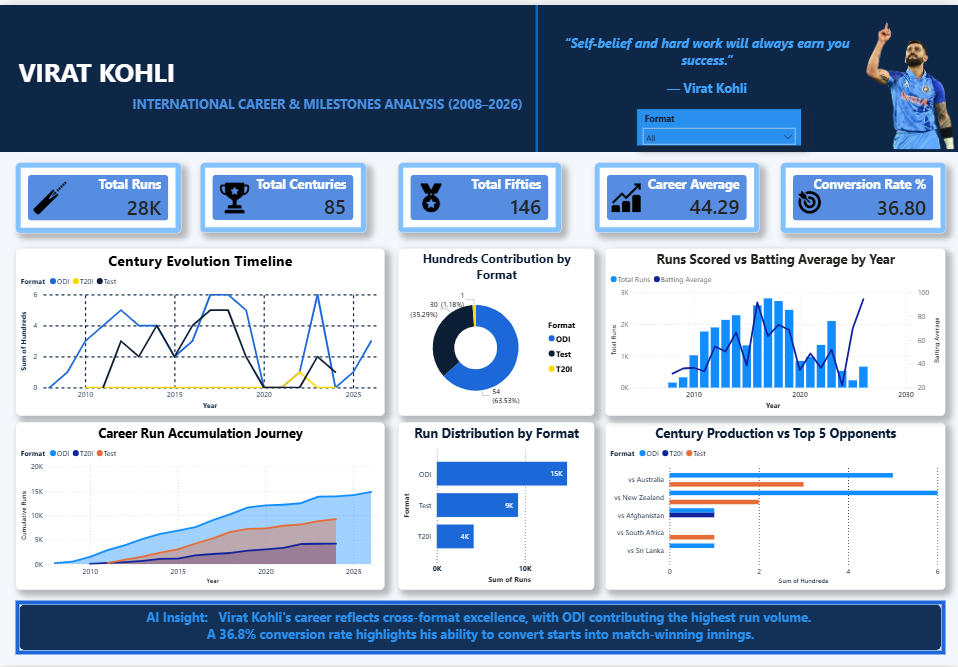

This screenshot's page, from the dashboard's own definition file:
{"tool":"powerbi","page":{"name":"Page 1","canvas":[1600,1100],"ordinal":0},"visuals":[{"type":"cardVisual","fields":{"Data":["cleaned_virat_international_yearwise_2026.Total Runs"]},"box":[28.3,262.2,276.4,118.1],"z":0},{"type":"cardVisual","fields":{"Data":["cleaned_virat_international_yearwise_2026.Career Average"]},"box":[992.5,262.5,275,117.5],"z":1000},{"type":"cardVisual","fields":{"Data":["cleaned_virat_international_yearwise_2026.Conversion Rate %"]},"box":[1301.6,262.2,276,118.1],"z":2000},{"type":"cardVisual","fields":{"Data":["cleaned_virat_international_yearwise_2026.Total Centuries"]},"box":[335,262.5,277.5,117.5],"z":3000},{"type":"cardVisual","fields":{"Data":["cleaned_virat_international_yearwise_2026.Total Fifties"]},"box":[665,262.5,272.5,117.5],"z":4000},{"type":"shape","box":[0,0,1600,245],"z":5000},{"type":"textbox","box":[27.5,77.5,275,150],"z":6000},{"type":"textbox","box":[197.5,145,700,60],"z":7000},{"type":"shape","box":[800,0,192.5,245],"z":8000},{"type":"image","box":[1437.5,17.5,162.5,227.5],"z":9000},{"type":"textbox","box":[922.5,42.5,515,160],"z":10000},{"type":"lineChart","title":"Century Evolution Timeline","fields":{"Category":["cleaned_virat_international_yearwise_2026.Year"],"Y":["Sum(cleaned_virat_international_yearwise_2026.Hundreds)"],"Series":["cleaned_virat_international_yearwise_2026.Format"]},"box":[27.5,405,615,280],"z":11000},{"type":"donutChart","title":"Hundreds Contribution by Format","fields":{"Category":["cleaned_virat_international_yearwise_2026.Format"],"Y":["cleaned_virat_international_yearwise_2026.Total Centuries"]},"box":[665,405,327.5,280],"z":12000},{"type":"clusteredBarChart","title":"Century Production vs Top 5 Opponents","fields":{"Category":["cleaned_virat_milestones_2026.Opponent_or_Event"],"Y":["Sum(cleaned_virat_international_yearwise_2026.Hundreds)"],"Series":["cleaned_virat_international_yearwise_2026.Format"]},"box":[1010,695,567.5,280],"z":13000},{"type":"areaChart","title":"Career Run Accumulation Journey","fields":{"Category":["cleaned_virat_international_yearwise_2026.Year"],"Series":["cleaned_virat_international_yearwise_2026.Format"],"Y":["cleaned_virat_international_yearwise_2026.Cumulative Runs"]},"box":[28,695,615,280],"z":14000},{"type":"lineStackedColumnComboChart","title":"Runs Scored vs Batting Average by Year","fields":{"Category":["cleaned_virat_international_yearwise_2026.Year"],"Y":["Sum(cleaned_virat_international_yearwise_2026.Runs)"],"Y2":["cleaned_virat_international_yearwise_2026.Batting Average"]},"box":[1010,405,567.5,280],"z":15000},{"type":"slicer","fields":{"Values":["cleaned_virat_international_yearwise_2026.Format"]},"box":[1062.5,172.5,275,62.5],"z":16000},{"type":"image","box":[57.5,290,55,62.5],"z":17000},{"type":"image","box":[365,290,55,62.5],"z":18000},{"type":"image","box":[692.5,290,55,62.5],"z":19000},{"type":"image","box":[1017.5,290,55,62.5],"z":20000},{"type":"image","box":[1332.5,297.5,37.5,62.5],"z":21000},{"type":"clusteredBarChart","title":"Run Distribution by Format","fields":{"Category":["cleaned_virat_international_yearwise_2026.Format"],"Y":["Sum(cleaned_virat_international_yearwise_2026.Runs)"]},"box":[665,695,327.5,280],"z":22000},{"type":"shape","box":[27.5,992.5,1550,90],"z":23000},{"type":"textbox","box":[27,999,1550,80],"z":24000}]}

Visuals, with their boxes in screenshot pixels (x1, y1, x2, y2), scaled from the page's 1600x1100 canvas onto the 958x667 screenshot:
cardVisual - cleaned_virat_international_yearwise_2026.Total Runs: {"left": 17, "top": 159, "right": 182, "bottom": 231}
cardVisual - cleaned_virat_international_yearwise_2026.Career Average: {"left": 594, "top": 159, "right": 759, "bottom": 230}
cardVisual - cleaned_virat_international_yearwise_2026.Conversion Rate %: {"left": 779, "top": 159, "right": 945, "bottom": 231}
cardVisual - cleaned_virat_international_yearwise_2026.Total Centuries: {"left": 201, "top": 159, "right": 367, "bottom": 230}
cardVisual - cleaned_virat_international_yearwise_2026.Total Fifties: {"left": 398, "top": 159, "right": 561, "bottom": 230}
shape: {"left": 0, "top": 0, "right": 957, "bottom": 149}
textbox: {"left": 16, "top": 47, "right": 181, "bottom": 138}
textbox: {"left": 118, "top": 88, "right": 537, "bottom": 124}
shape: {"left": 479, "top": 0, "right": 594, "bottom": 149}
image: {"left": 861, "top": 11, "right": 957, "bottom": 149}
textbox: {"left": 552, "top": 26, "right": 861, "bottom": 123}
"Century Evolution Timeline" lineChart: {"left": 16, "top": 246, "right": 385, "bottom": 415}
"Hundreds Contribution by Format" donutChart: {"left": 398, "top": 246, "right": 594, "bottom": 415}
"Century Production vs Top 5 Opponents" clusteredBarChart: {"left": 605, "top": 421, "right": 945, "bottom": 591}
"Career Run Accumulation Journey" areaChart: {"left": 17, "top": 421, "right": 385, "bottom": 591}
"Runs Scored vs Batting Average by Year" lineStackedColumnComboChart: {"left": 605, "top": 246, "right": 945, "bottom": 415}
slicer - cleaned_virat_international_yearwise_2026.Format: {"left": 636, "top": 105, "right": 801, "bottom": 142}
image: {"left": 34, "top": 176, "right": 67, "bottom": 214}
image: {"left": 219, "top": 176, "right": 251, "bottom": 214}
image: {"left": 415, "top": 176, "right": 448, "bottom": 214}
image: {"left": 609, "top": 176, "right": 642, "bottom": 214}
image: {"left": 798, "top": 180, "right": 820, "bottom": 218}
"Run Distribution by Format" clusteredBarChart: {"left": 398, "top": 421, "right": 594, "bottom": 591}
shape: {"left": 16, "top": 602, "right": 945, "bottom": 656}
textbox: {"left": 16, "top": 606, "right": 944, "bottom": 654}
